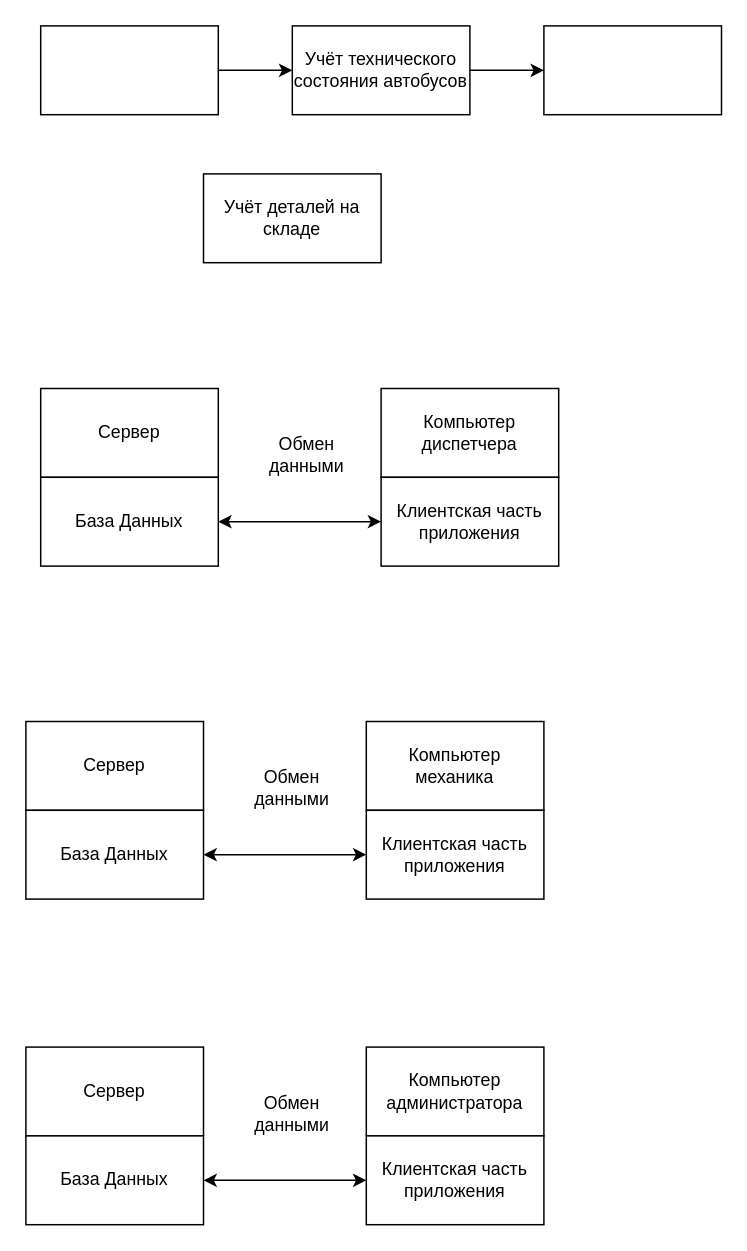
This 747x1251 diagram has some shape labels left out. The shapes that lost their labels are listed below. From the top down, each one's centre as x and y in pixels, then its label:
(128,69): Учёт автобусов
(632,69): Анализ технического состояния
